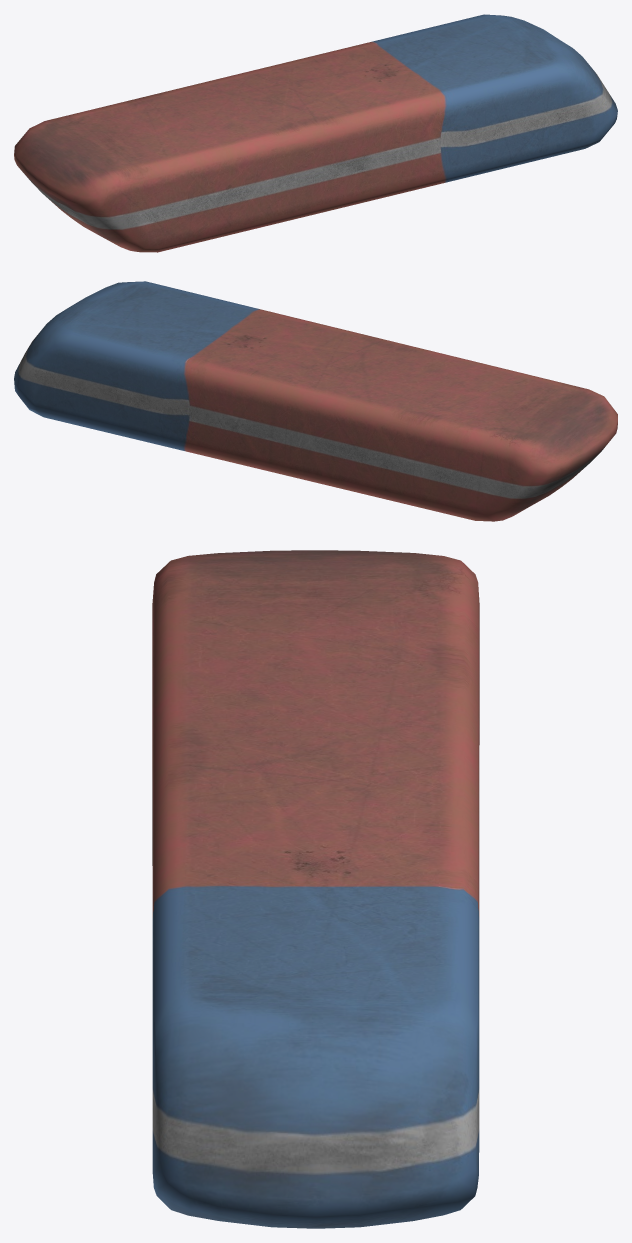
Rendered from painter_eraser.dae.
3 views of the same model, one above another, from view 1: azimuth 30°, elevation 25°; view 2: azimuth 150°, elevation 25°; view 3: azimuth 270°, elevation 25° (orthographic). The views are drawn at different scales.
Visible parts, largest first — view 1: Eraser2_Low; view 2: Eraser2_Low; view 3: Eraser2_Low.
Part boxes in pixels (x1,y1,x2,y2): Eraser2_Low: (14,14,617,252); Eraser2_Low: (14,281,617,521); Eraser2_Low: (152,550,479,1228).
Size of the model in its own units: 0.0514 by 0.013 by 0.00792.
1 material, 1 textured.
